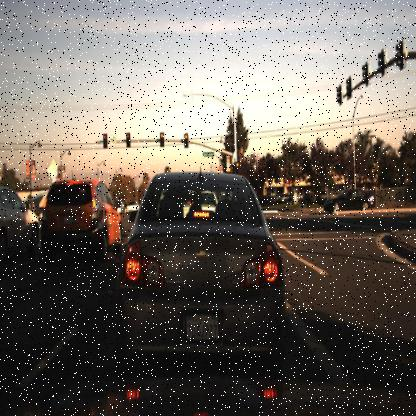car: (119, 172, 285, 369), (38, 174, 122, 270), (0, 192, 38, 262), (320, 186, 378, 217), (322, 188, 378, 214), (124, 197, 140, 214)
trafficLight-Red: (182, 130, 192, 150), (233, 156, 241, 171), (159, 131, 165, 149), (102, 132, 110, 144), (125, 130, 133, 142)
trafficLight-RedLeft: (124, 127, 132, 148), (100, 131, 108, 150)
